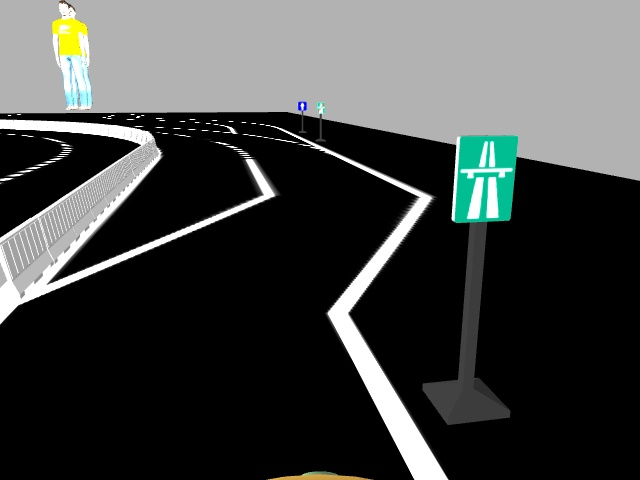HighwayEntrance: (447, 134, 519, 221)
